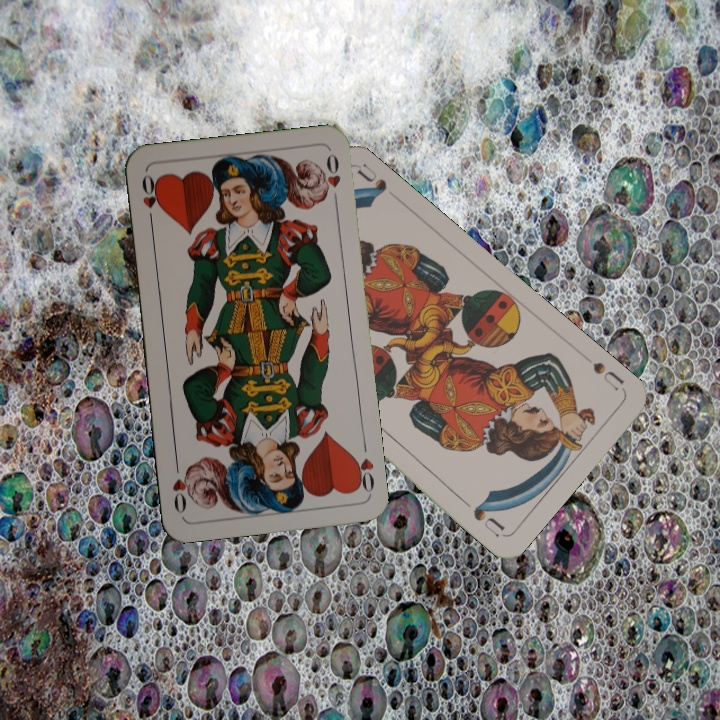HO: (348, 437, 377, 495), (137, 170, 161, 228)
SU: (589, 357, 627, 394)
